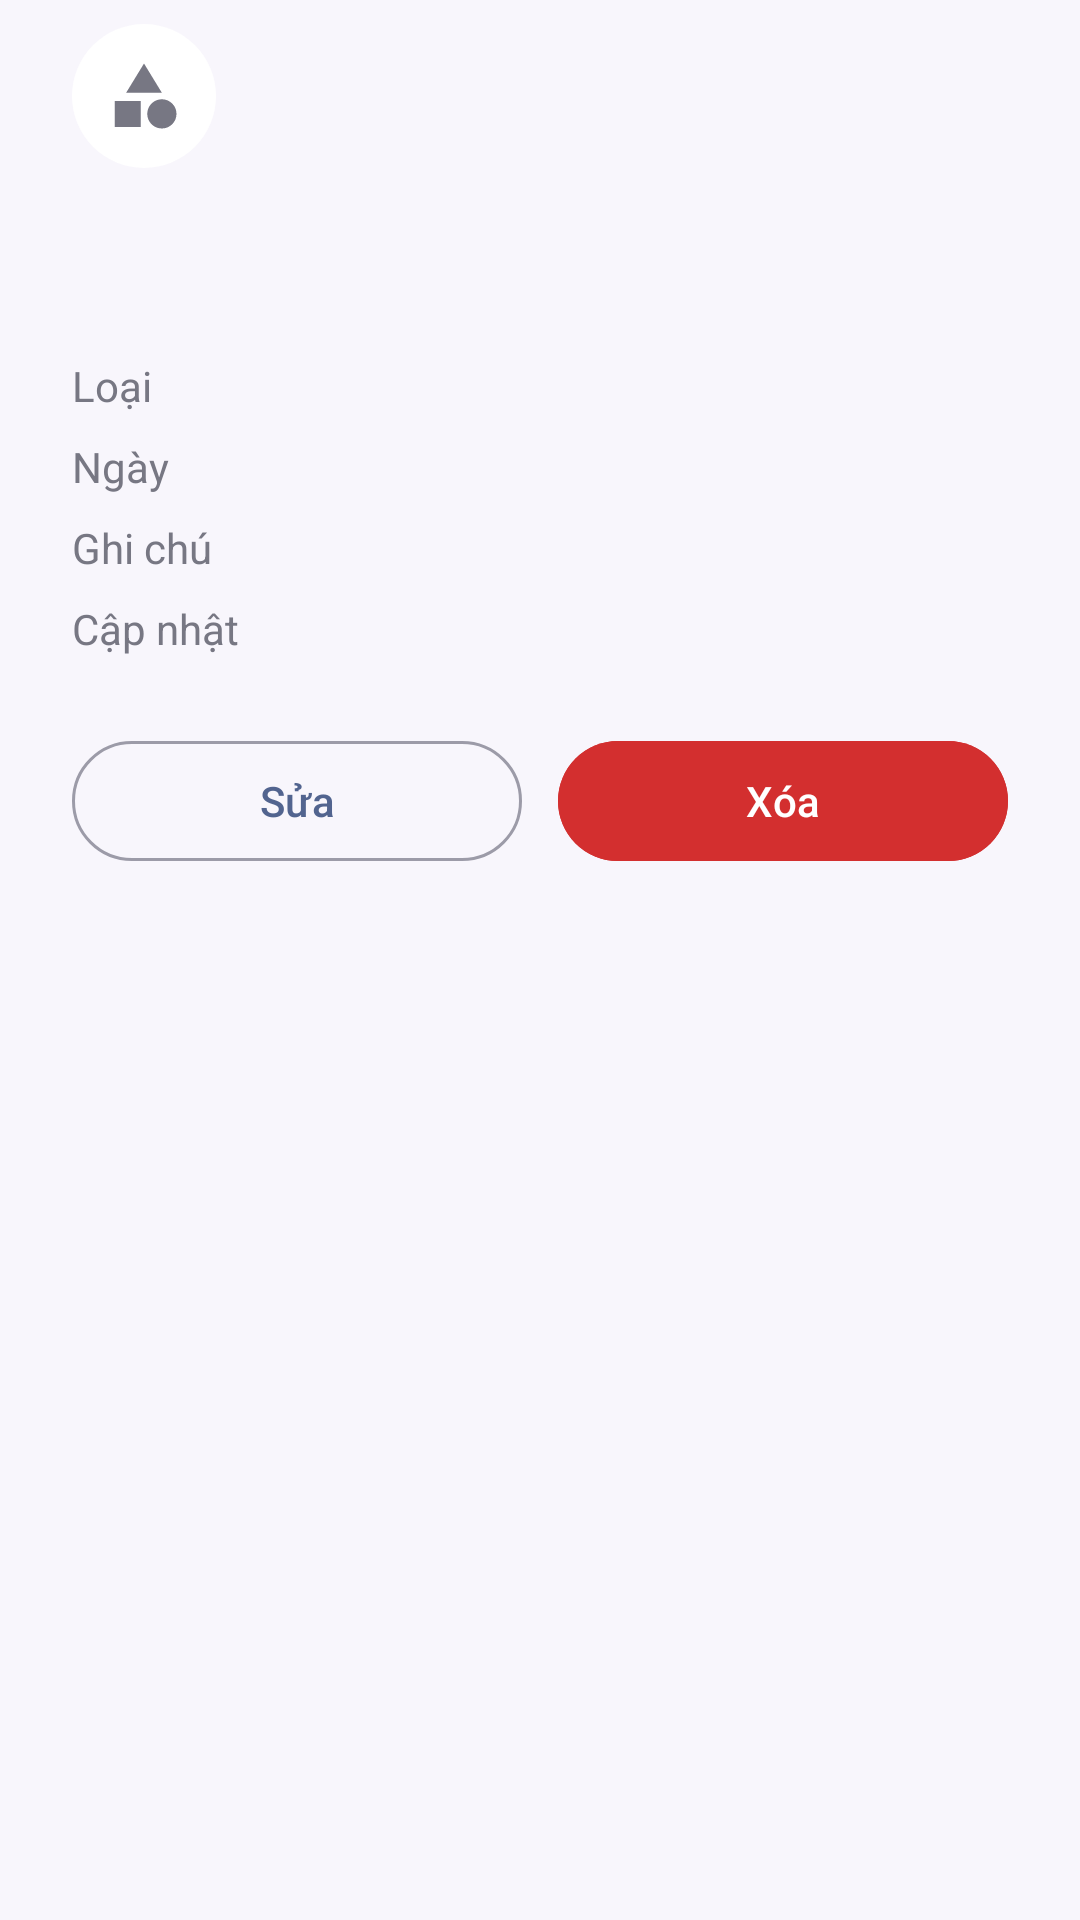

Icon bounding boxes for this 1080 x 1920 phone screenshot, format [x1, y1, x2, y2]:
cat category: [72, 24, 216, 168]
